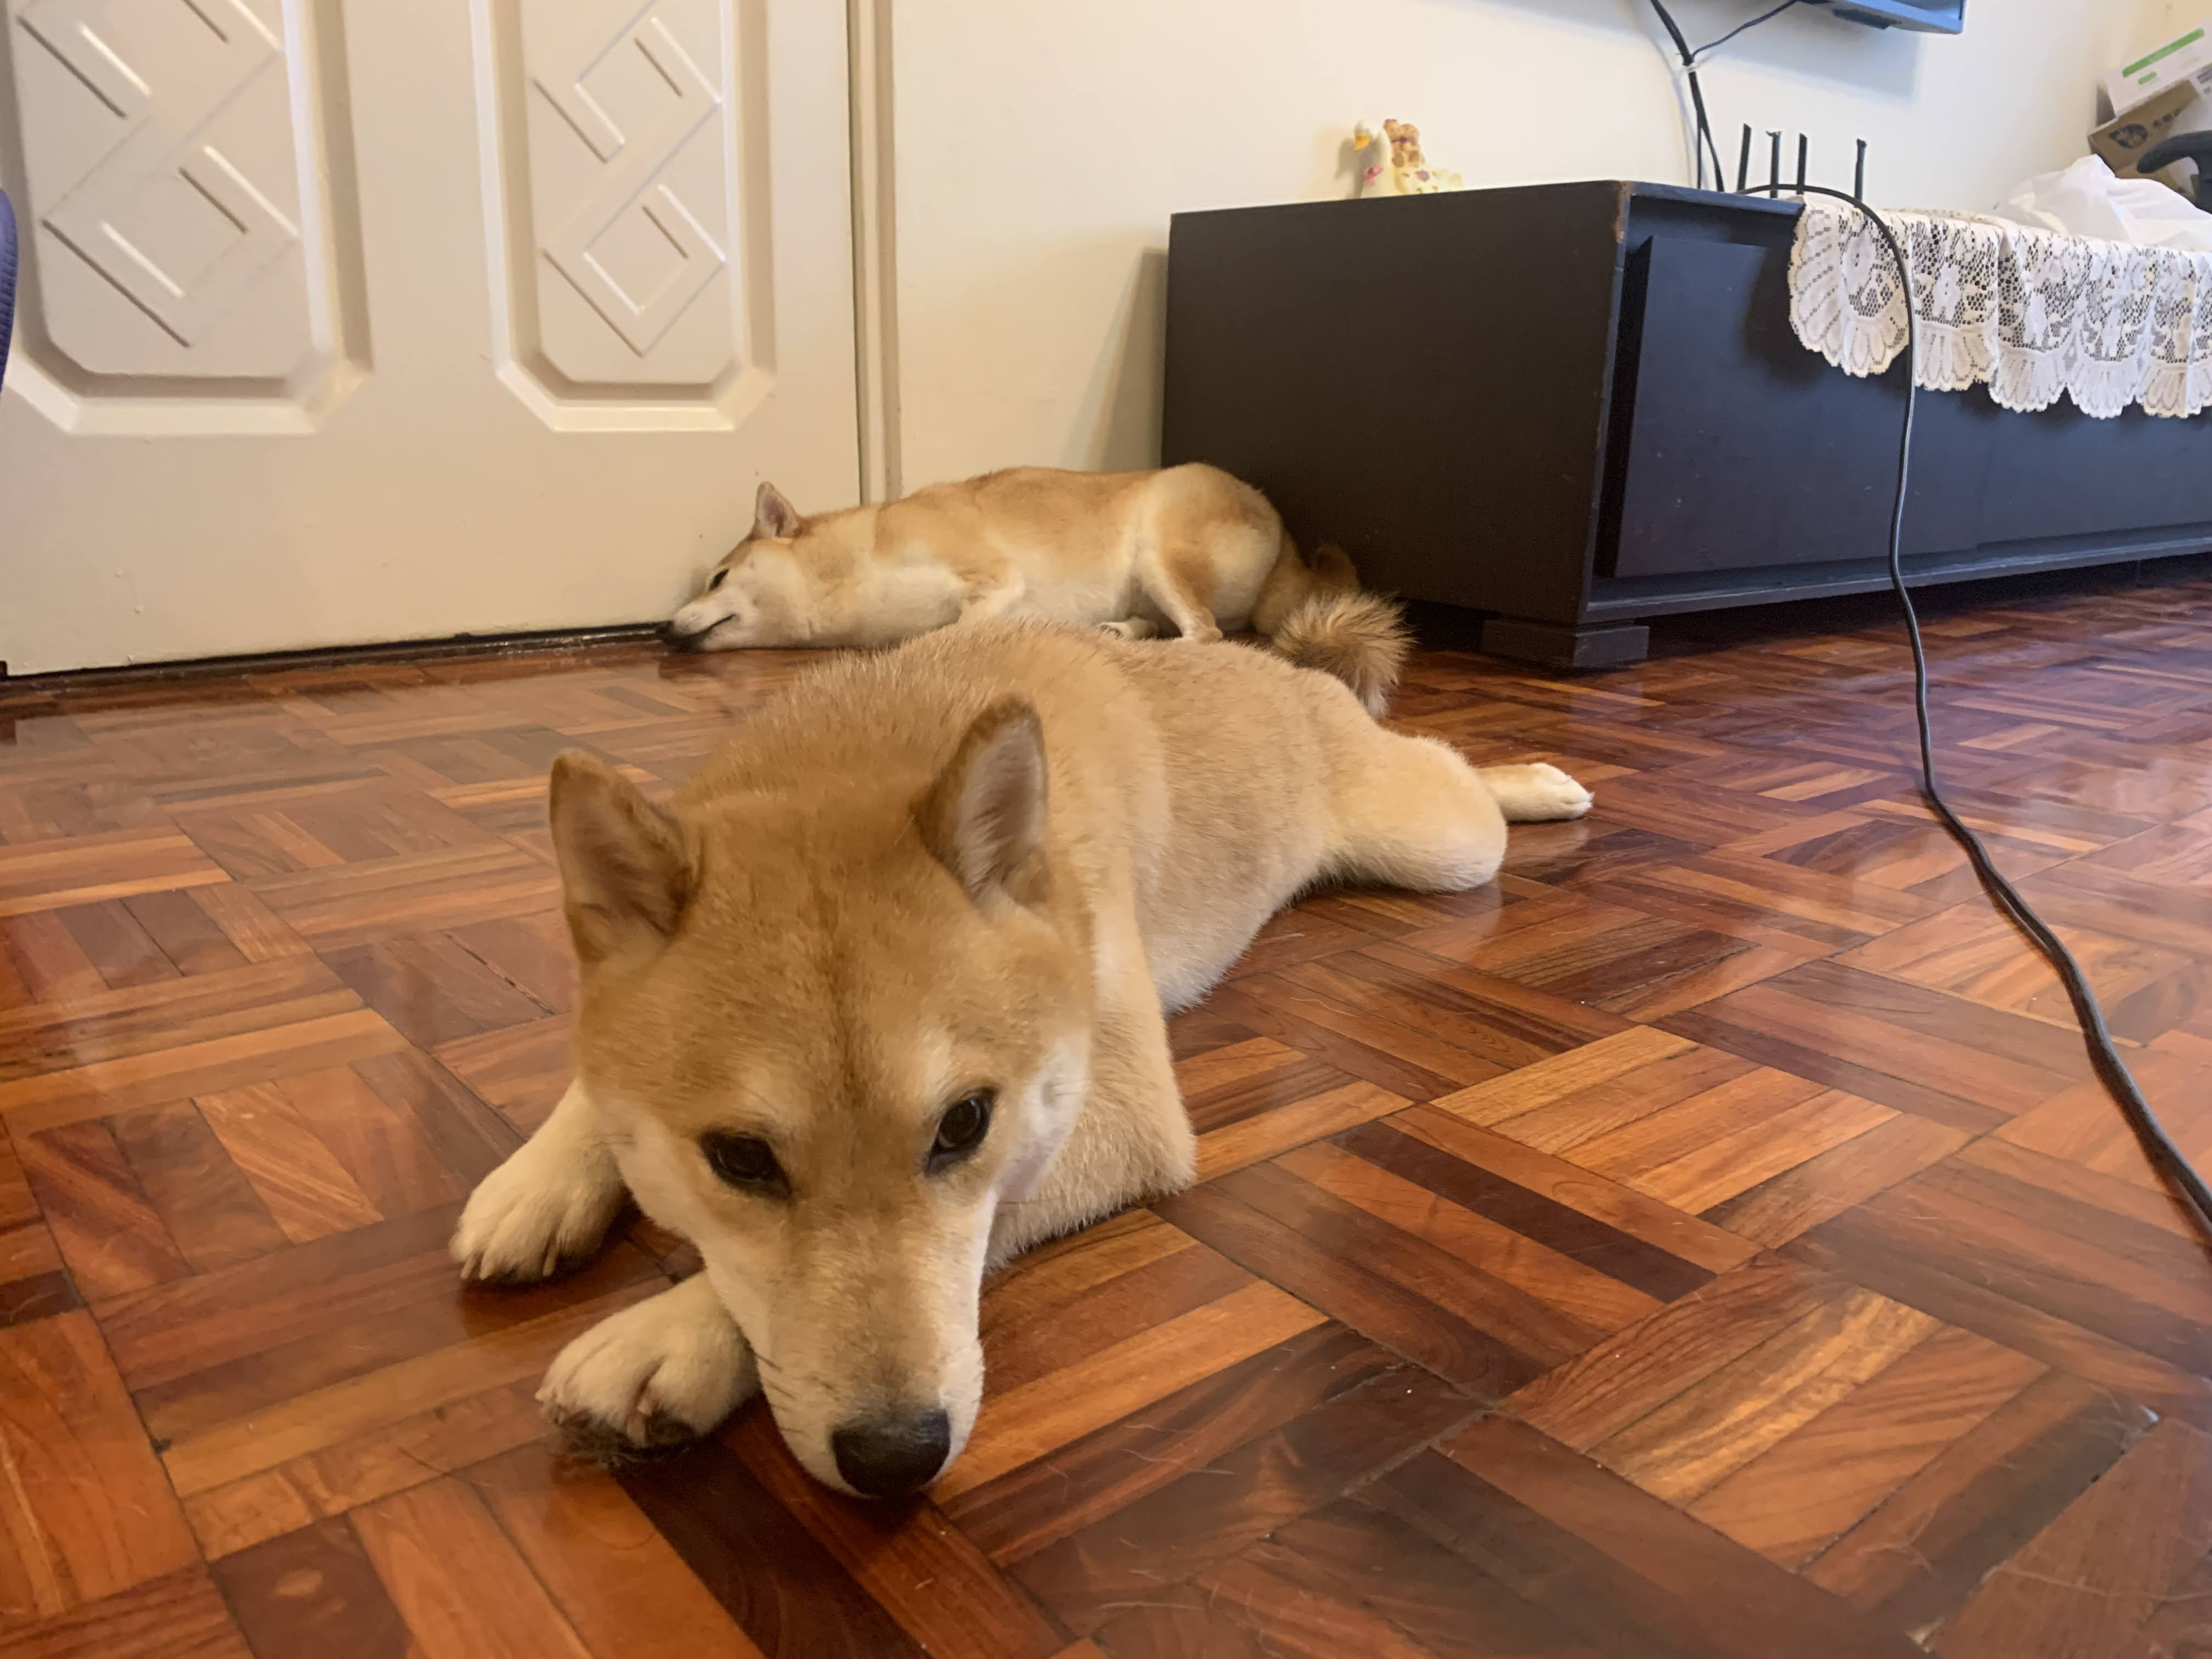Get down: (406, 676, 1672, 1507), (648, 465, 1435, 660)
